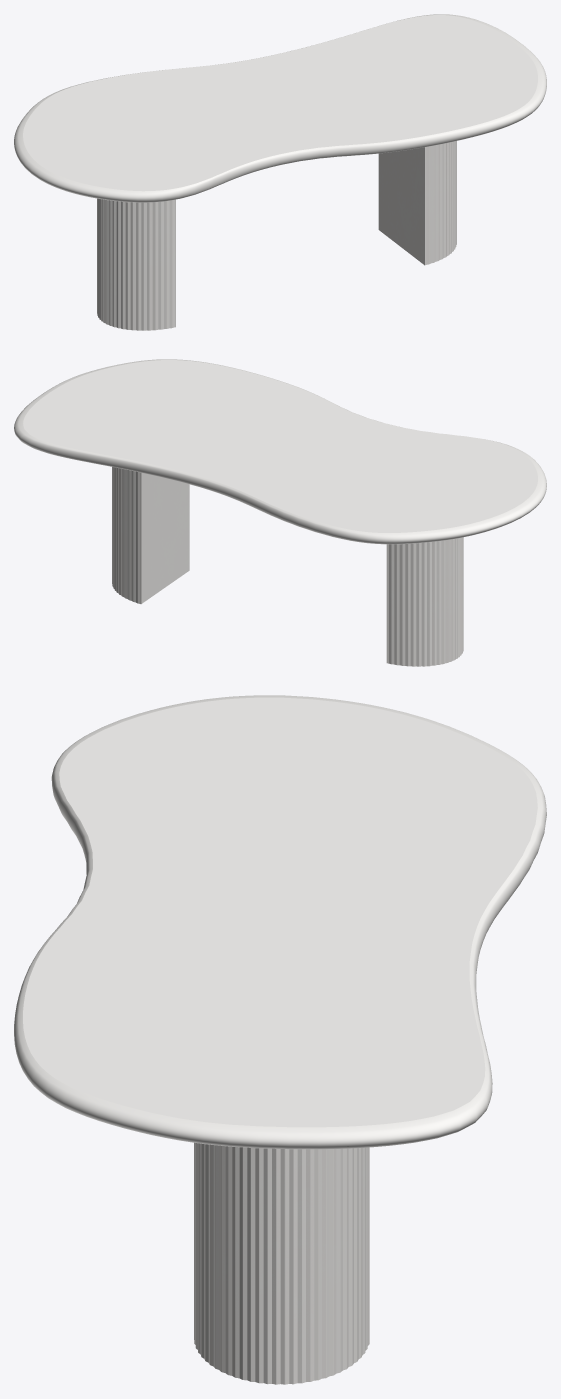
The model's file is purewhite_wave_round_flute.glb.
3 views of the same model, one above another, from view 1: azimuth 30°, elevation 25°; view 2: azimuth 150°, elevation 25°; view 3: azimuth 270°, elevation 25° (orthographic). The views are drawn at different scales.
Parts seen in each view (by area): view 1: round_wave, flute; view 2: round_wave, flute; view 3: round_wave, flute.
Boxes of the visible parts, x1,y1,x2,y2 form: round_wave: (14, 14, 546, 202); flute: (97, 141, 456, 330); round_wave: (14, 359, 546, 544); flute: (112, 467, 463, 666); round_wave: (14, 695, 546, 1149); flute: (194, 1142, 369, 1384).
Size of the model in its own units: 7.5 by 2.5 by 3.8.
1 material, 1 textured.
